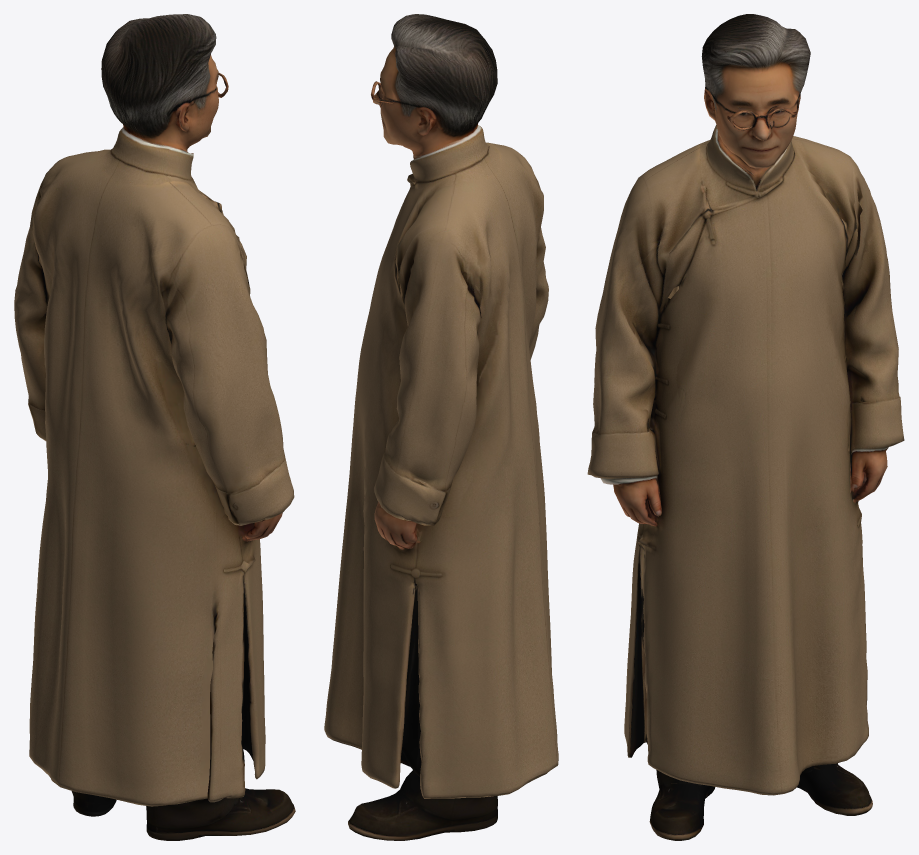
The model's file is 1c1efca9-5ef1-4838-ba08-c30d1181ec06_1.fbx.
3 views of the same model, side by side, from view 1: azimuth 30°, elevation 25°; view 2: azimuth 150°, elevation 25°; view 3: azimuth 270°, elevation 25° (orthographic).
Visible parts, largest first — view 1: tripo_node_ab3093b6; view 2: tripo_node_ab3093b6; view 3: tripo_node_ab3093b6.
Boxes of the visible parts, x1,y1,x2,y2 form: tripo_node_ab3093b6: (14,14,295,840); tripo_node_ab3093b6: (324,14,558,840); tripo_node_ab3093b6: (587,14,904,840).
Bounding box in the file's own units: 0.2777 × 0.9782 × 0.3612.
